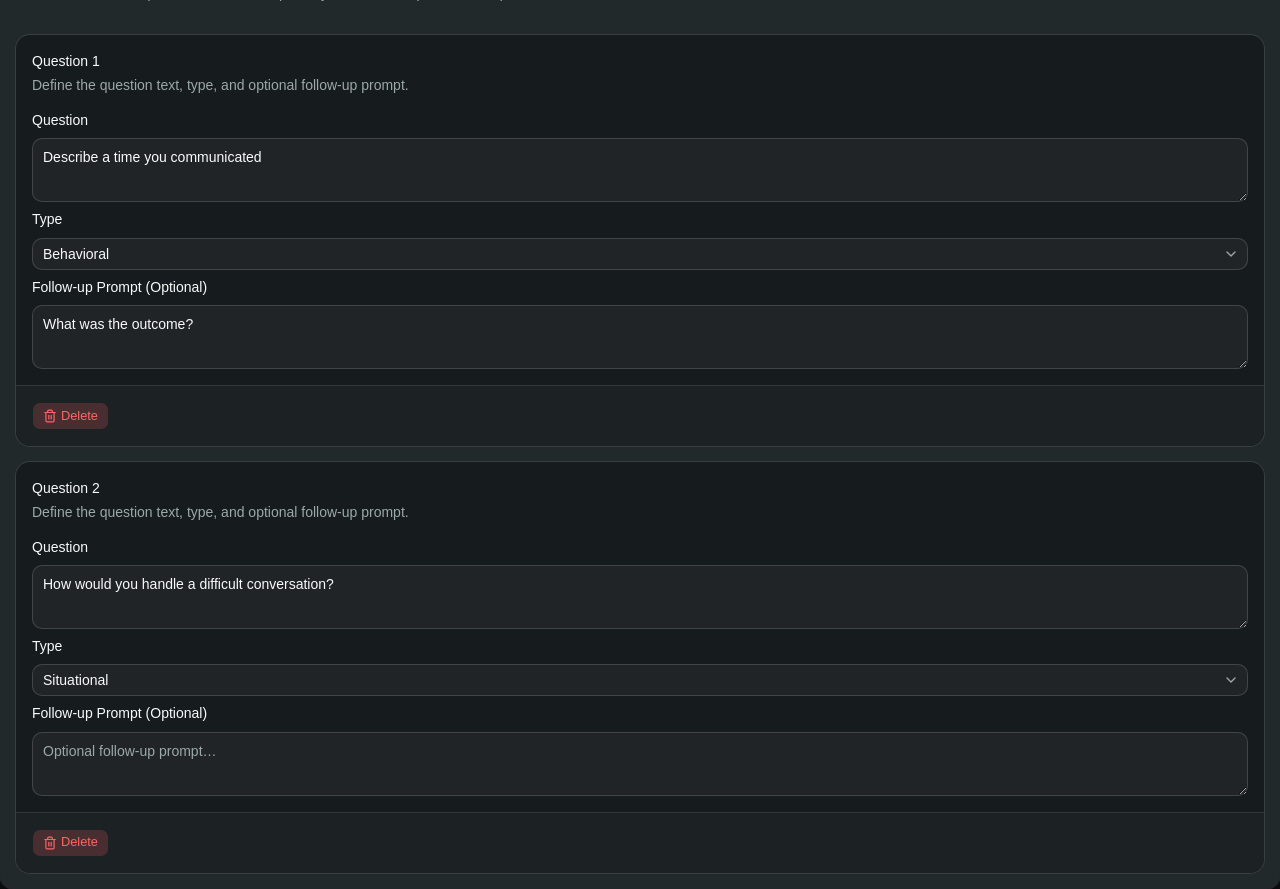
Test: QuestionsFormFields › Multiple Questions › should display correct question name for second delete action
(page scrolled)
Step 1. Click the button with test id "remove-question-button-0-1" → point(70, 842), box [32,828,109,856]
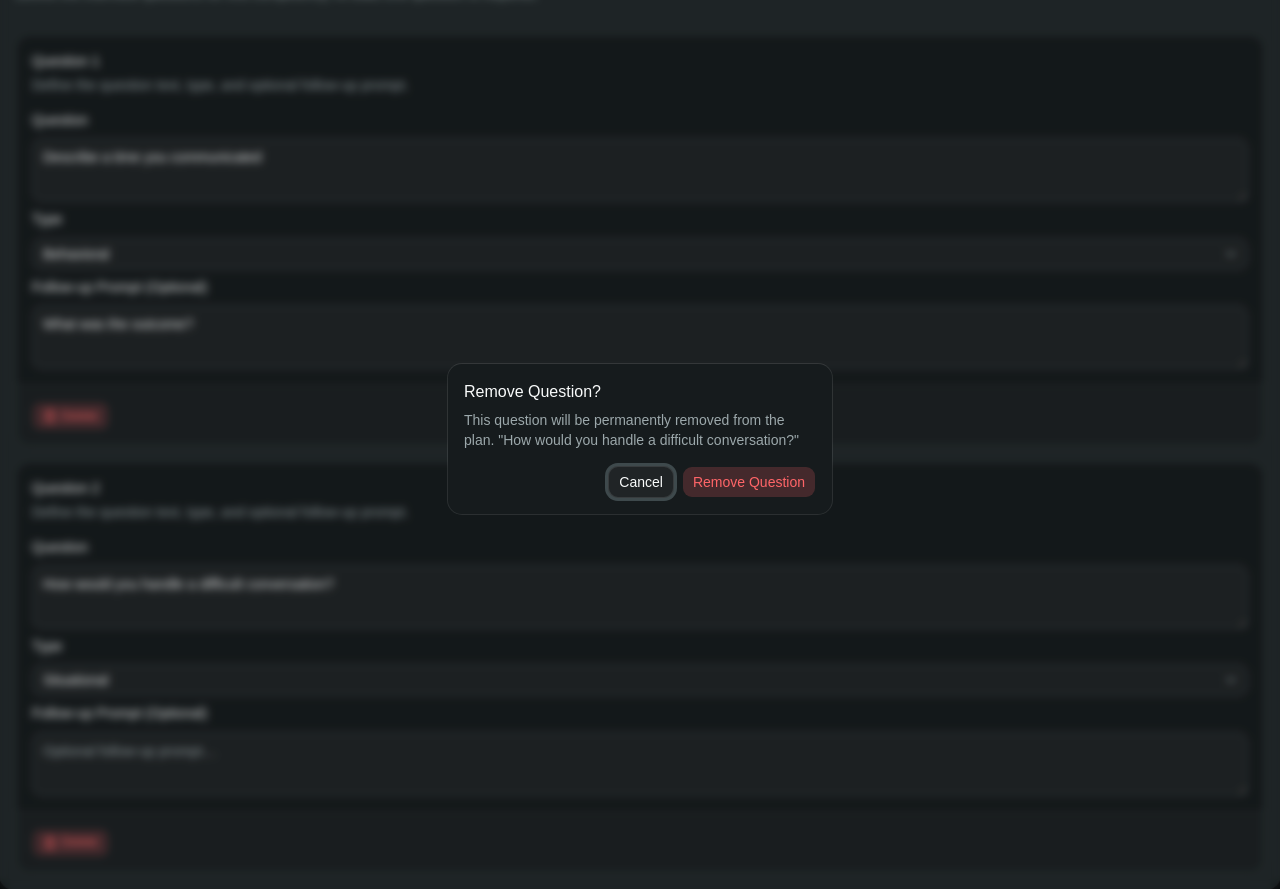
Expected: the text "This question will be permanently removed from the plan" shows "How would you handle a difficult conversation", [464,412,799,448]
